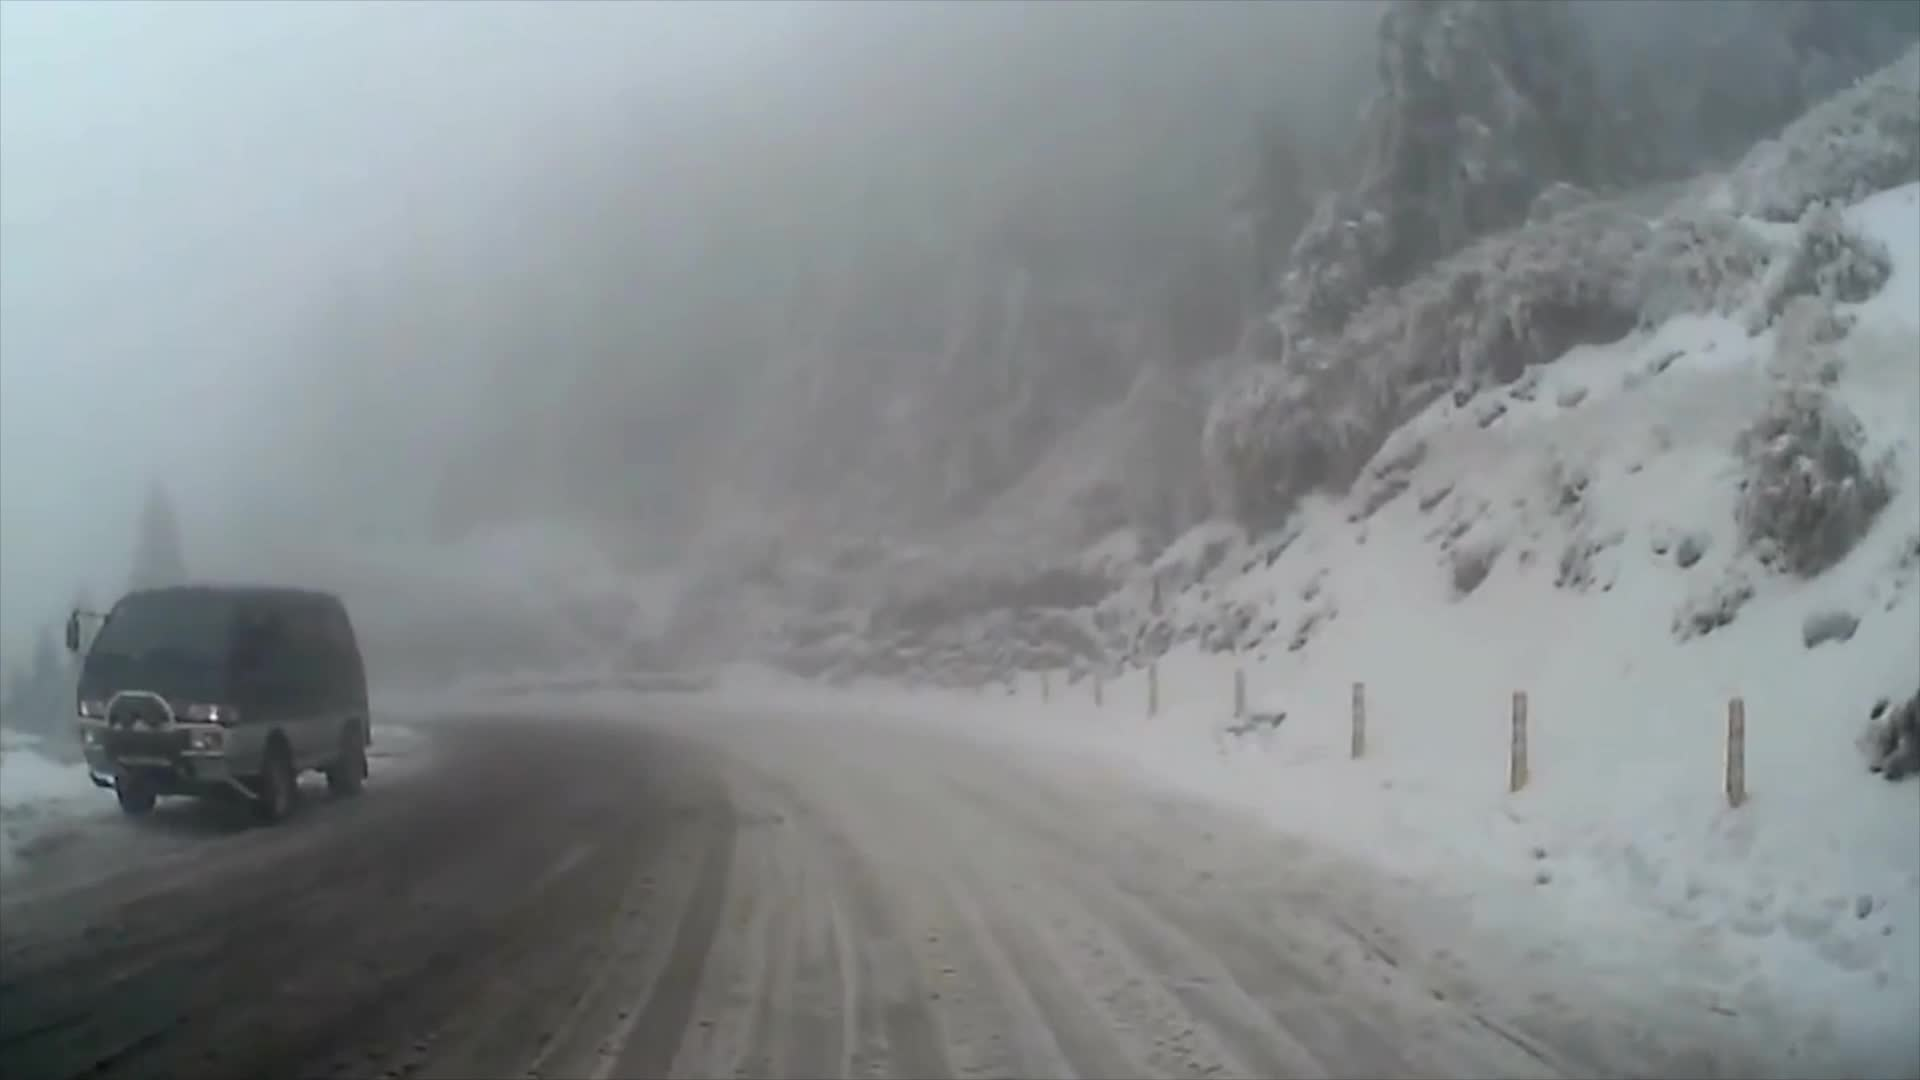vehicle: (61, 585, 371, 827)
